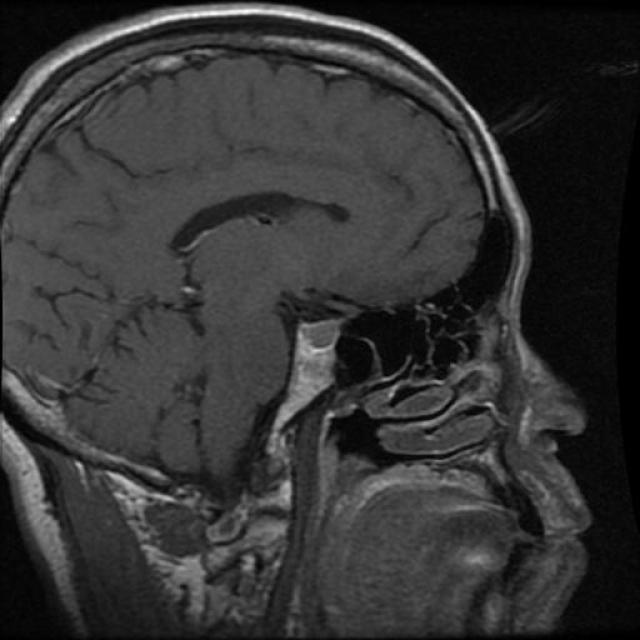pituitary: (260, 303, 355, 459)
